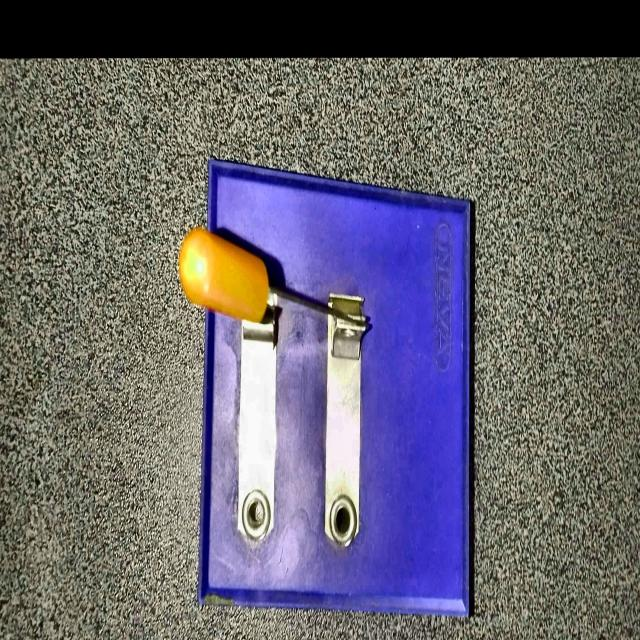L Switch: (164, 142, 498, 640)
